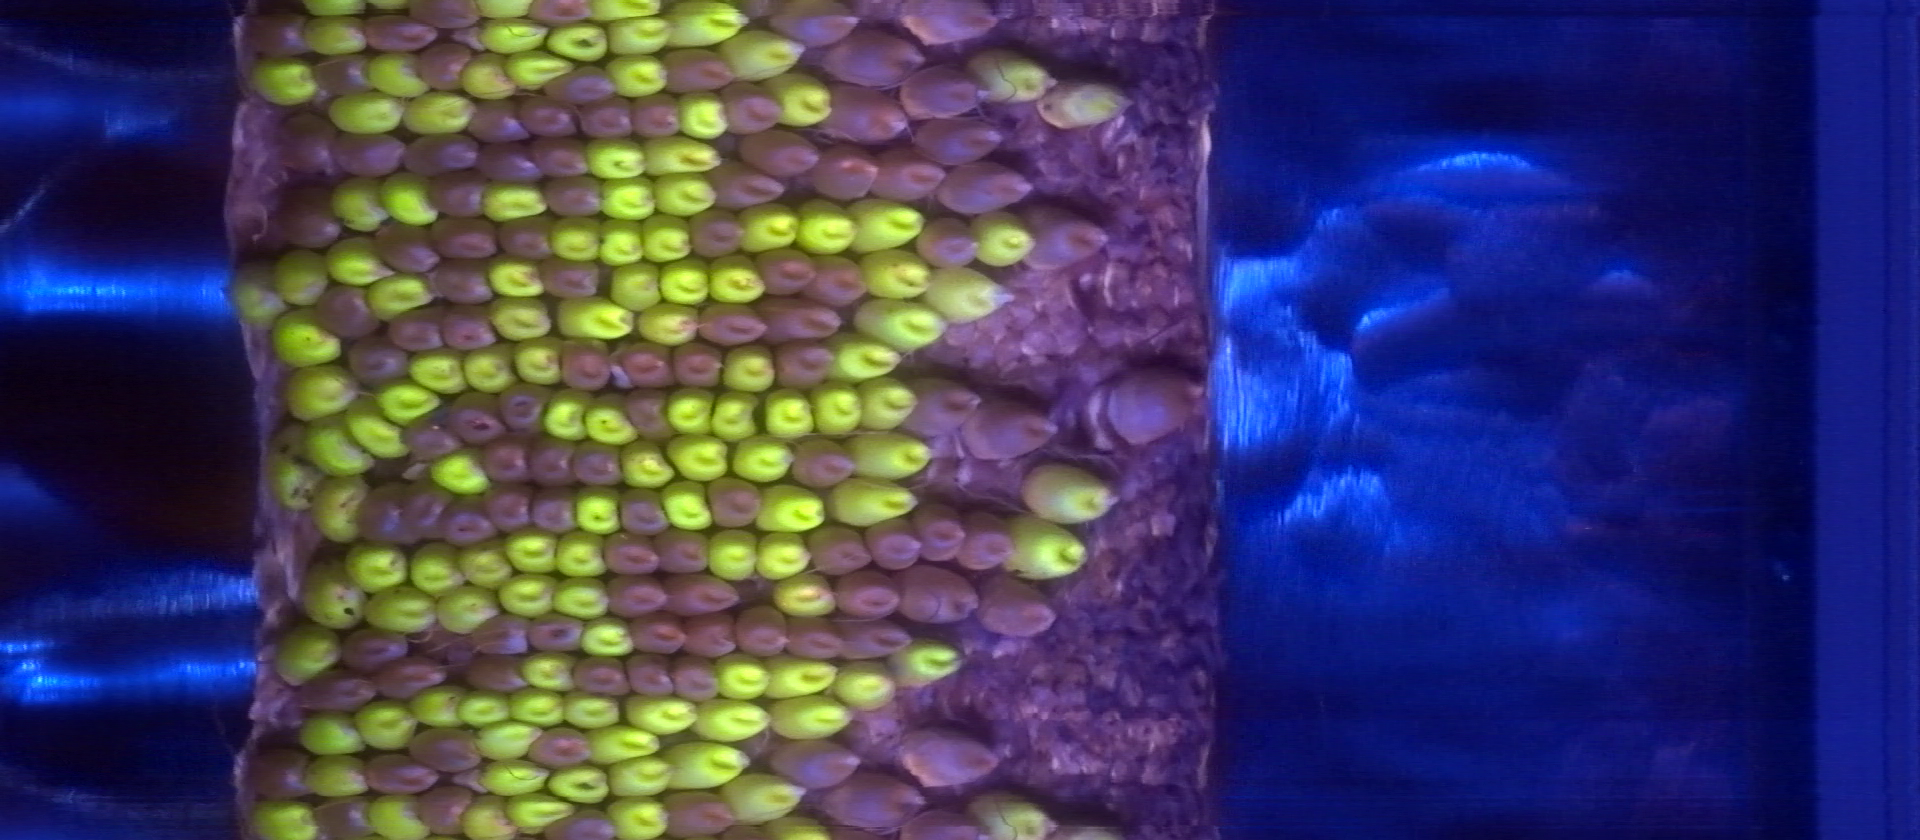fluorescent: (850, 293, 950, 350), (922, 272, 1018, 331), (1020, 464, 1116, 520), (962, 47, 1049, 102), (969, 785, 1057, 838), (1011, 517, 1084, 576), (298, 564, 364, 624), (827, 480, 913, 524), (849, 431, 929, 478), (268, 433, 317, 507), (1037, 86, 1127, 125), (267, 316, 340, 362), (273, 634, 339, 686), (556, 295, 636, 337), (667, 742, 744, 785), (969, 213, 1030, 267), (771, 73, 829, 130), (769, 699, 853, 737), (249, 58, 315, 104), (857, 200, 920, 249), (863, 250, 927, 298), (896, 642, 962, 687), (830, 336, 898, 380), (756, 485, 823, 529), (311, 421, 369, 473), (384, 173, 438, 225), (727, 780, 806, 816), (798, 201, 851, 253), (235, 261, 278, 324), (316, 479, 359, 542), (329, 176, 384, 225), (289, 369, 350, 413), (355, 703, 413, 749), (457, 50, 516, 96), (670, 5, 742, 42), (730, 36, 793, 77), (276, 250, 324, 304), (512, 340, 566, 389), (369, 590, 436, 629), (372, 792, 429, 839), (862, 378, 913, 429), (587, 398, 636, 451), (839, 659, 893, 707), (249, 802, 321, 838), (369, 271, 426, 315), (353, 410, 404, 459), (713, 654, 765, 702), (298, 715, 364, 753), (669, 436, 729, 478), (343, 549, 407, 588), (627, 697, 696, 732), (698, 704, 767, 740), (329, 238, 384, 282), (647, 138, 719, 171), (716, 383, 758, 440), (610, 261, 659, 309), (813, 386, 860, 436), (409, 353, 467, 393), (709, 258, 762, 302), (610, 58, 669, 97), (549, 20, 604, 61), (333, 96, 396, 132), (743, 204, 793, 250), (370, 54, 427, 93), (485, 182, 544, 220), (486, 256, 541, 296), (553, 217, 602, 262), (304, 758, 366, 793), (511, 684, 562, 727), (487, 302, 551, 337), (771, 658, 835, 692), (509, 797, 573, 831), (735, 442, 789, 482), (729, 342, 774, 389), (414, 542, 459, 589), (771, 582, 838, 613), (622, 444, 671, 487), (576, 482, 618, 531), (662, 486, 713, 528), (507, 530, 560, 569), (758, 535, 808, 576), (407, 97, 468, 130), (602, 182, 658, 219), (440, 593, 492, 631), (613, 800, 665, 838), (507, 56, 571, 87), (711, 536, 756, 580), (589, 141, 642, 178), (433, 453, 486, 490), (410, 688, 467, 722), (640, 309, 698, 342), (380, 384, 435, 419), (523, 651, 576, 687), (478, 729, 531, 763), (460, 545, 511, 582), (558, 531, 602, 573), (680, 96, 725, 136), (475, 22, 542, 49), (587, 732, 660, 757), (500, 578, 550, 613), (552, 393, 590, 440), (458, 804, 518, 834), (665, 260, 705, 302), (556, 582, 606, 616), (566, 692, 616, 726), (612, 760, 666, 792), (553, 769, 605, 802), (600, 224, 640, 266), (662, 178, 711, 212), (456, 691, 508, 722), (767, 396, 811, 433), (481, 769, 549, 793), (647, 220, 688, 260), (759, 820, 838, 840), (470, 350, 508, 389), (673, 389, 711, 429), (609, 23, 664, 50), (306, 23, 359, 51), (583, 623, 631, 654), (296, 1, 364, 16), (594, 2, 654, 16), (478, 1, 525, 17), (370, 1, 399, 12)
nonfluorescent: (1101, 362, 1204, 448), (898, 720, 997, 786), (1022, 206, 1116, 276), (966, 397, 1059, 467), (825, 771, 924, 833), (978, 568, 1059, 639), (899, 372, 982, 441), (938, 158, 1035, 217), (823, 80, 907, 144), (827, 33, 924, 84), (902, 114, 1004, 163), (773, 736, 862, 791), (891, 1, 999, 47), (700, 156, 787, 211), (895, 568, 980, 624), (273, 186, 347, 247), (771, 1, 860, 51), (310, 280, 384, 339), (900, 69, 984, 120), (910, 213, 982, 272), (678, 204, 753, 261), (328, 126, 404, 180), (660, 784, 735, 836), (282, 107, 340, 173), (400, 476, 457, 545), (874, 151, 947, 203), (757, 242, 822, 300), (830, 569, 898, 624), (693, 300, 773, 347), (704, 471, 765, 531), (771, 338, 835, 396), (658, 47, 738, 92), (800, 253, 864, 310), (789, 433, 855, 489), (242, 4, 310, 58), (402, 132, 478, 180), (372, 220, 440, 273), (823, 147, 882, 207), (714, 80, 775, 137), (959, 511, 1016, 572), (763, 298, 847, 339), (362, 480, 413, 550), (811, 519, 876, 573), (373, 656, 448, 703), (408, 725, 482, 771), (666, 574, 742, 620), (740, 129, 824, 169), (500, 381, 558, 437), (367, 751, 440, 796), (422, 171, 489, 220), (464, 92, 524, 146), (252, 743, 312, 797), (398, 411, 462, 462), (540, 251, 605, 300), (628, 91, 687, 144), (555, 337, 609, 396), (834, 617, 912, 658), (300, 669, 373, 711), (542, 69, 624, 107), (458, 653, 533, 694), (622, 389, 678, 444), (528, 724, 593, 771), (415, 782, 478, 831), (866, 516, 921, 571), (444, 498, 498, 555), (429, 260, 493, 306), (437, 216, 497, 266), (651, 528, 711, 578), (471, 611, 535, 658), (311, 793, 375, 840), (609, 572, 667, 622), (340, 338, 405, 383), (452, 392, 504, 447), (572, 437, 624, 492), (527, 482, 582, 535), (621, 337, 672, 393), (576, 93, 636, 141), (662, 655, 722, 703), (478, 141, 542, 185), (540, 174, 601, 220), (422, 40, 473, 97), (500, 211, 557, 260), (917, 503, 969, 557), (735, 604, 789, 655), (596, 531, 659, 576), (443, 306, 502, 353), (680, 613, 738, 660), (571, 651, 629, 698), (898, 807, 980, 840), (524, 438, 576, 491), (672, 337, 722, 391), (617, 489, 672, 538), (522, 99, 580, 144), (389, 304, 444, 351), (360, 13, 433, 49), (340, 626, 409, 664), (482, 435, 534, 485), (623, 613, 684, 655), (782, 617, 841, 660), (315, 60, 378, 98), (486, 480, 529, 535), (411, 1, 480, 36), (528, 613, 588, 653), (550, 806, 612, 840), (624, 658, 671, 700), (524, 1, 590, 31), (538, 140, 591, 175)
